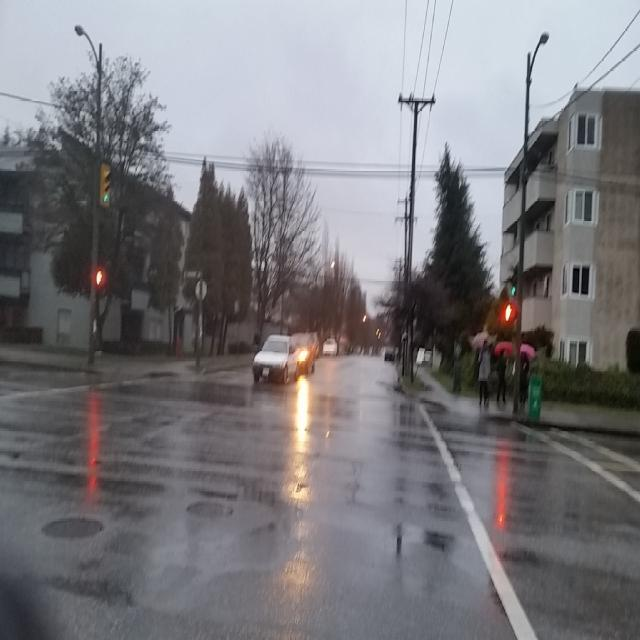traffic light: (99, 162, 112, 208)
